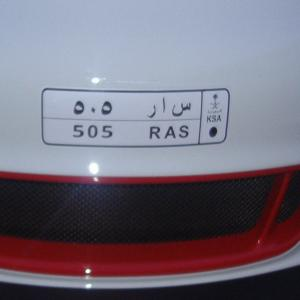Vehicle-registration-plate: (52, 84, 236, 164)
